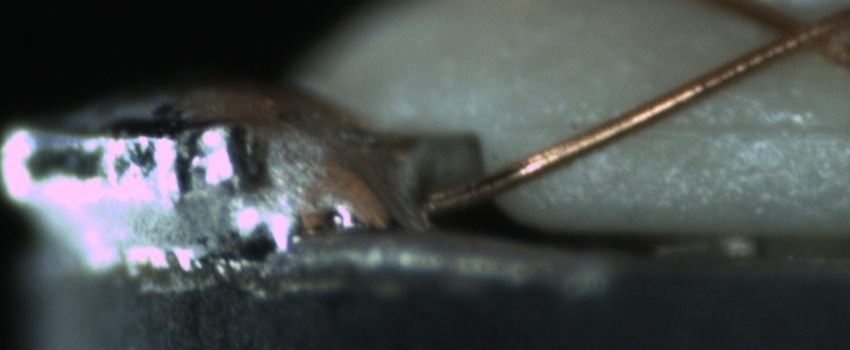CL: (750, 0, 842, 65)
DL: (537, 94, 847, 158)
